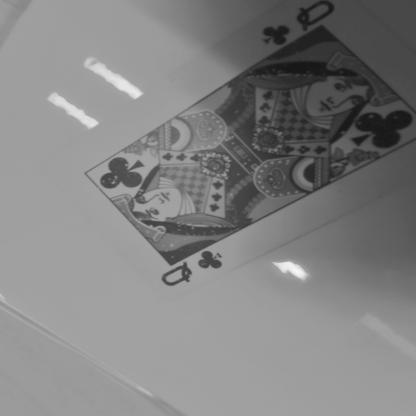QC: (245, 0, 344, 56), (154, 241, 233, 292)
